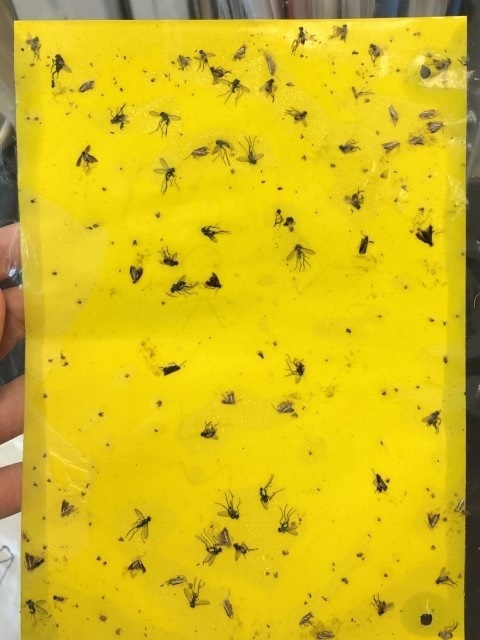DBM: (156, 357, 185, 386), (74, 143, 101, 174), (20, 551, 49, 575), (356, 229, 377, 262), (21, 599, 48, 624), (200, 271, 228, 294), (210, 524, 234, 550), (413, 223, 435, 249), (182, 145, 210, 165), (126, 550, 148, 575), (219, 596, 239, 621), (267, 397, 295, 414), (380, 137, 401, 158), (219, 388, 240, 408), (294, 610, 316, 629), (165, 571, 188, 588), (388, 104, 404, 128), (76, 79, 97, 97), (60, 498, 76, 520), (129, 263, 144, 286), (425, 511, 443, 530), (231, 42, 248, 62), (264, 53, 278, 77), (428, 118, 444, 137), (418, 106, 438, 120), (313, 629, 336, 640), (451, 497, 465, 514), (406, 135, 425, 147)
Other: (210, 77, 252, 111), (119, 506, 153, 547), (255, 470, 287, 511), (181, 577, 215, 613), (282, 242, 317, 275), (234, 132, 266, 168), (145, 108, 182, 139), (151, 156, 181, 194), (209, 131, 236, 171), (274, 505, 306, 538), (282, 352, 313, 386), (167, 273, 200, 303), (195, 529, 222, 565), (430, 563, 461, 594), (418, 404, 446, 436), (196, 218, 230, 244), (288, 25, 314, 58), (347, 81, 380, 105), (203, 65, 239, 86), (256, 75, 283, 103), (340, 185, 367, 212), (105, 101, 130, 130), (232, 538, 260, 563), (370, 592, 395, 619), (284, 105, 312, 129), (156, 242, 181, 268), (363, 38, 386, 66), (24, 31, 44, 63), (196, 419, 222, 443), (48, 53, 71, 80), (429, 53, 455, 76), (193, 45, 215, 72), (337, 135, 363, 156), (369, 469, 388, 496), (435, 618, 458, 640), (329, 19, 350, 43), (50, 591, 67, 608), (440, 353, 453, 368), (256, 347, 265, 364)
